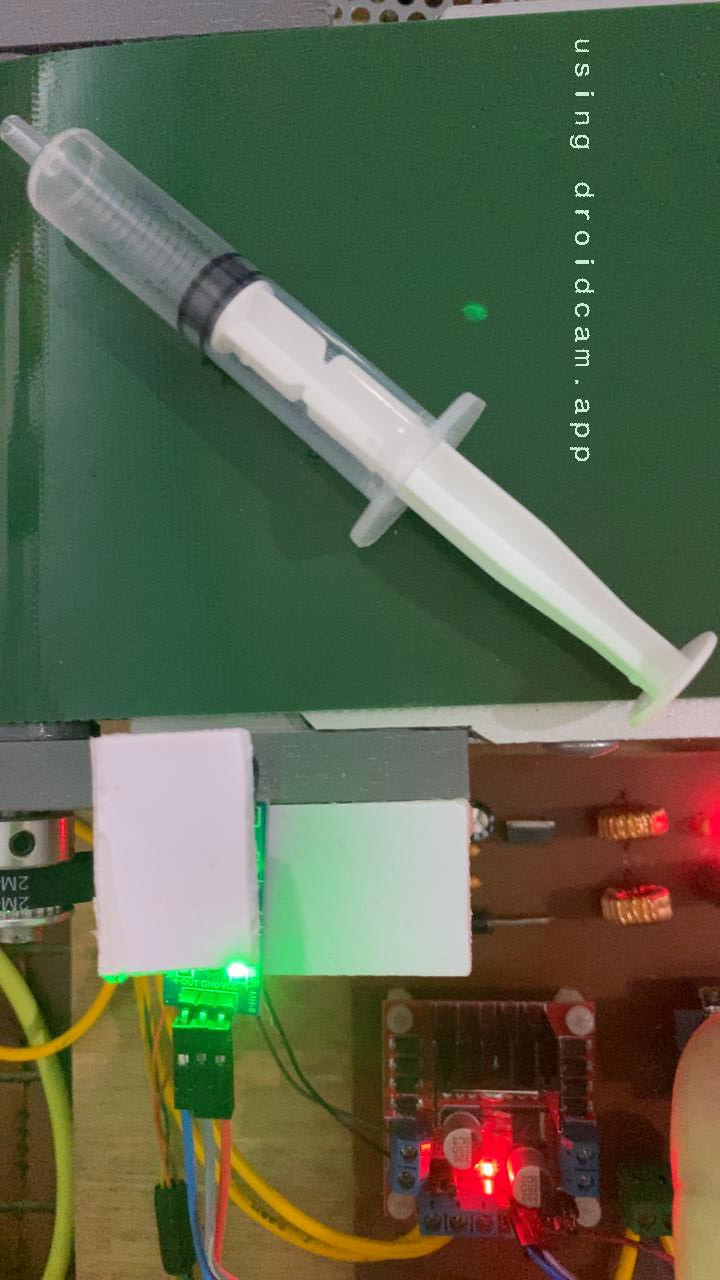syringe: (0, 19, 720, 711)
